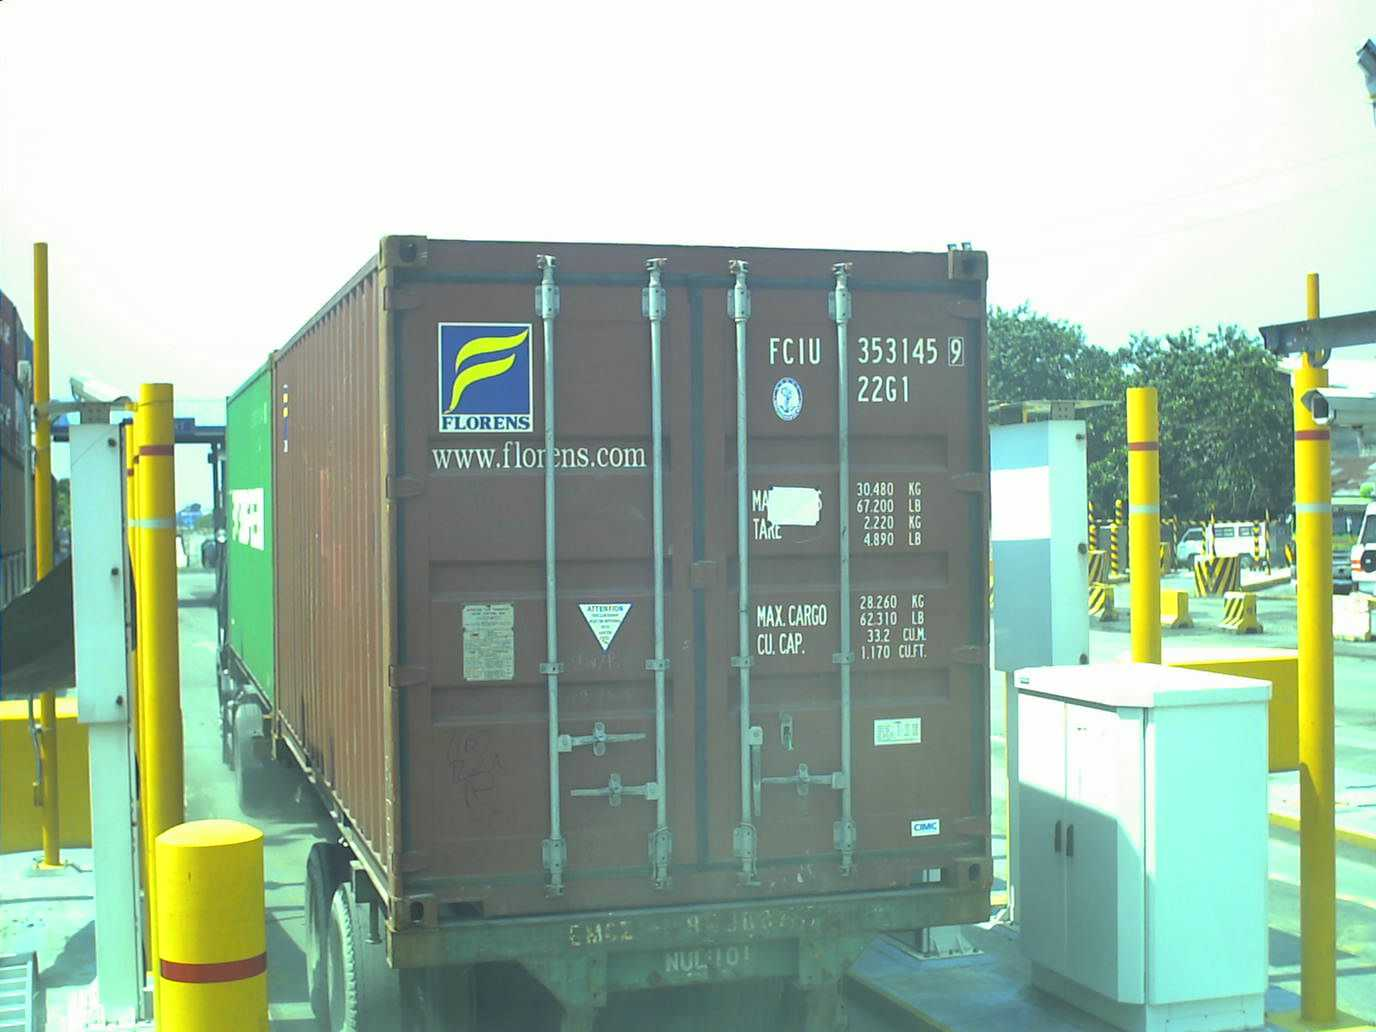container_door: (330, 225, 994, 926)
